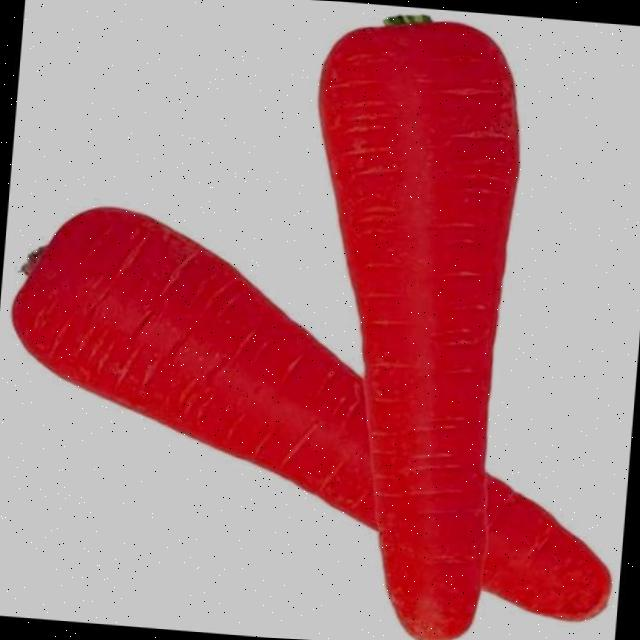carrot: (13, 207, 612, 618), (320, 21, 517, 640)
